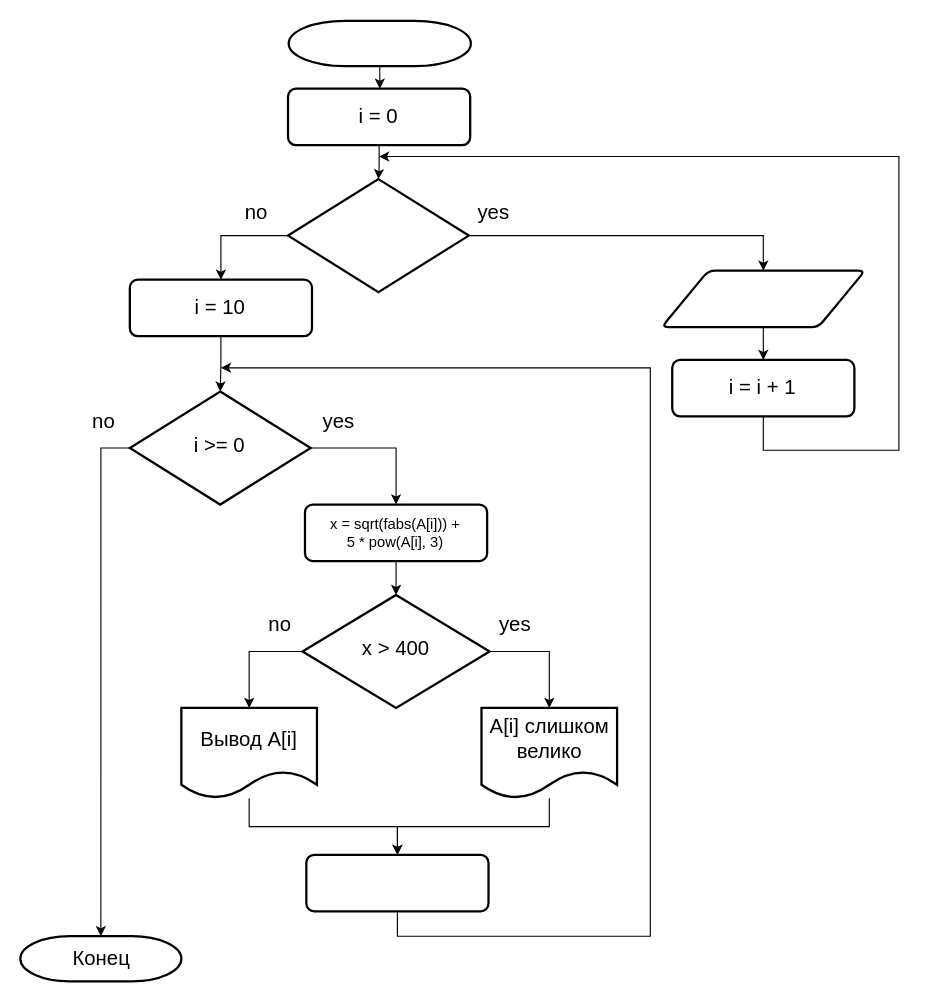
This 928x1001 diagram has some shape labels left out. Here are the shapes that lost their labels. From the top down, the box of each, then its label:
(287, 19, 471, 67): Начало
(286, 177, 469, 293): i < 11
(660, 269, 866, 328): Ввод A[i]
(305, 853, 489, 912): i = i - 1
